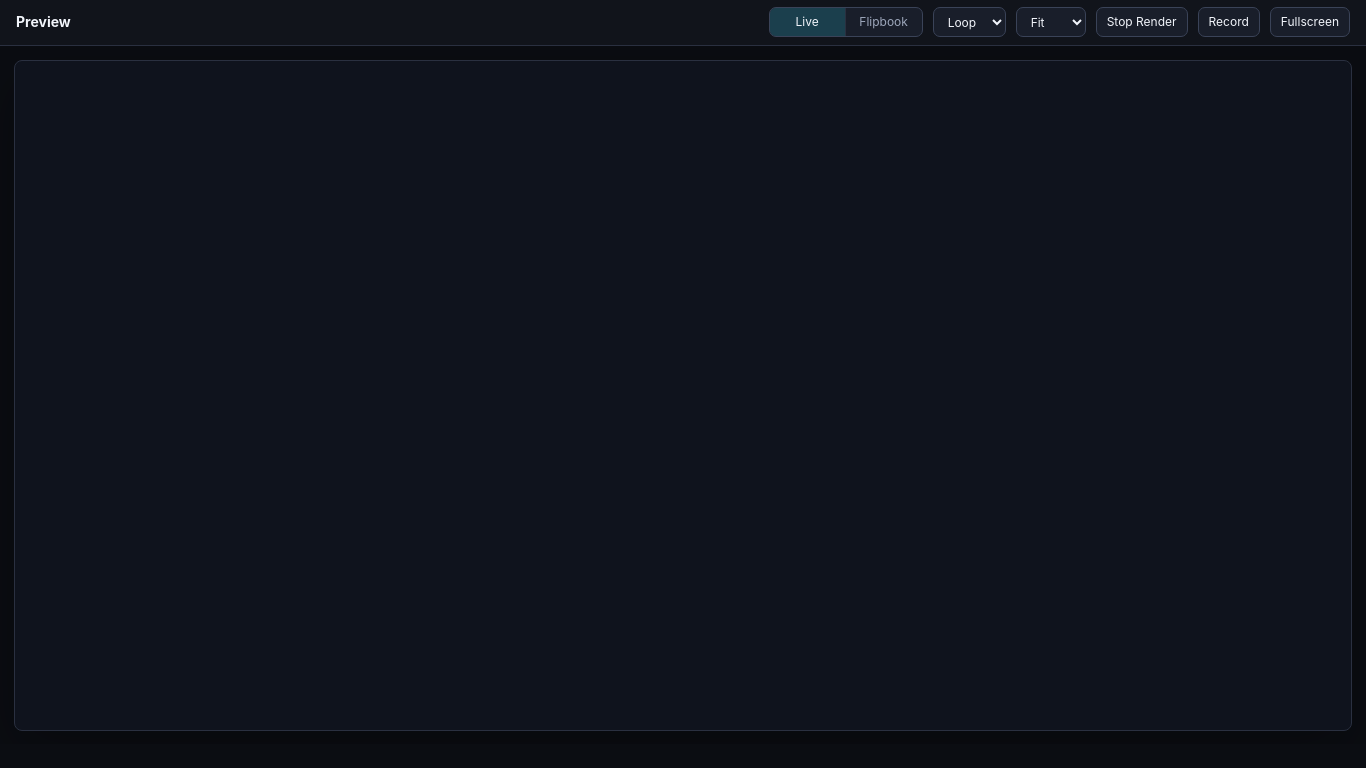
Scenario: PreviewPane WebGPU integration › shows a non-fatal recording unsupported message without hiding the live canvas
Click the button with aria-label "Start live recording" at (1229, 22), box [1198,7,1260,37]
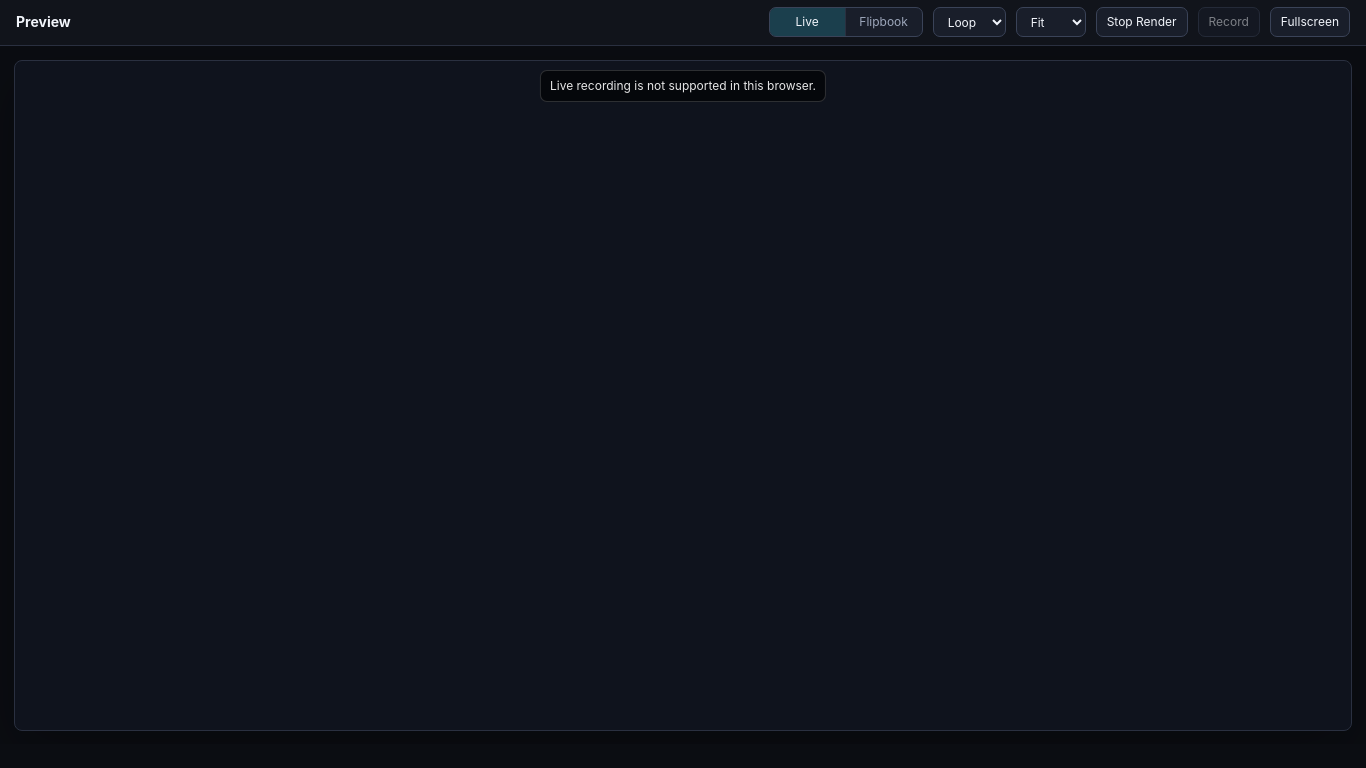
Check: the text "Live recording is not supported in this browser." is shown, box [540,70,826,102]
